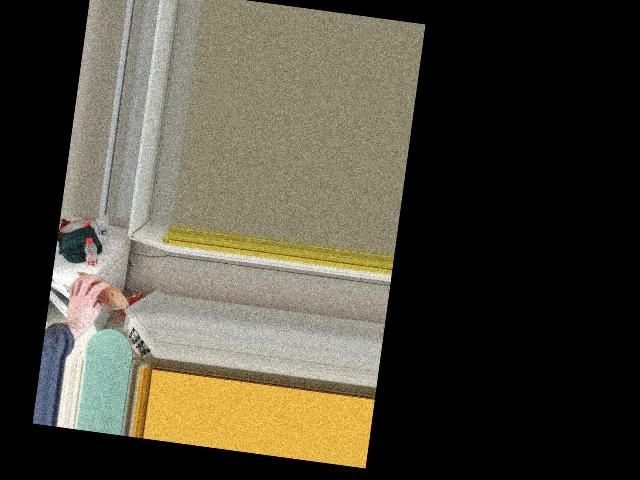sweet_potato: (70, 270, 130, 310)
